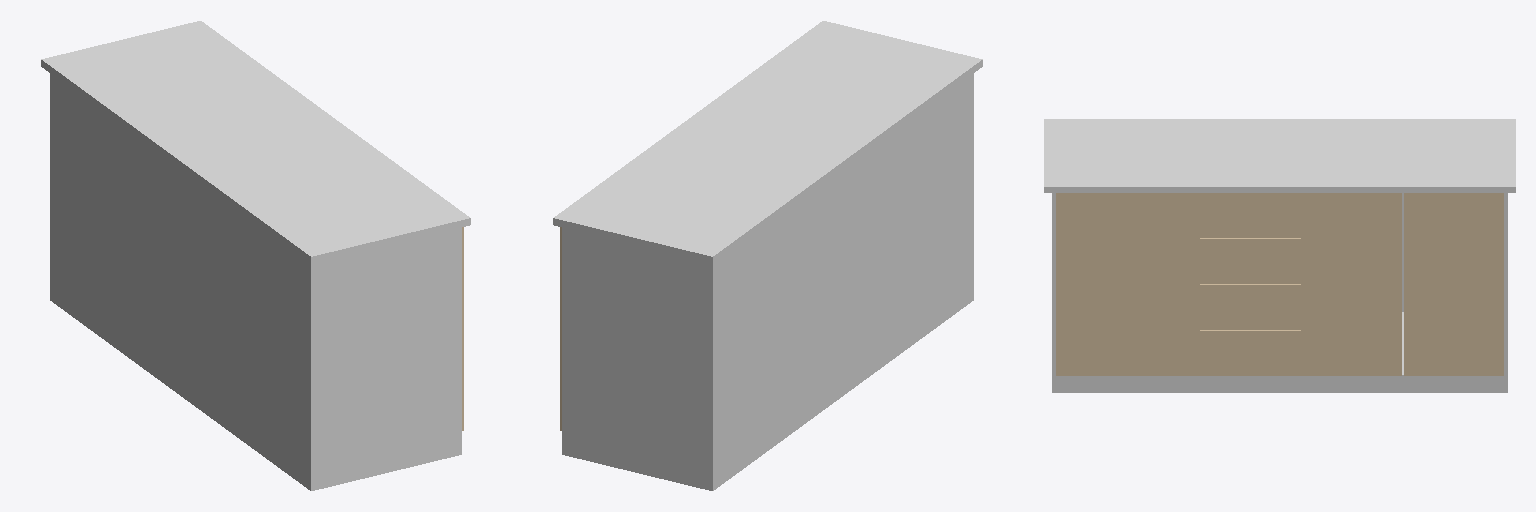
--- Render facts (derived) ---
Views: 3 orthographic renders of the robot side by side, from view 1: azimuth 30°, elevation 25°; view 2: azimuth 150°, elevation 25°; view 3: azimuth 270°, elevation 25°.
Model base_cabinet with 29 links and 28 joints (3 revolute, 5 prismatic, 20 fixed), rooted at base_cabinet_base_link, posed every joint at zero.
Links seen in each view (by area): view 1: base_cabinet_frame_back_panel, base_cabinet_worktop, base_cabinet_frame_right_side_panel, base_cabinet_base_link; view 2: base_cabinet_frame_back_panel, base_cabinet_worktop, base_cabinet_frame_left_side_panel, base_cabinet_base_link; view 3: base_cabinet_worktop, base_cabinet_c4_door, base_cabinet_c5_door, base_cabinet_c1_door, base_cabinet_c2_pull_out_front_panel, base_cabinet_base_link, base_cabinet_c3_r2_drawer_front_panel, base_cabinet_c3_r3_drawer_front_panel, base_cabinet_c3_r4_drawer_front_panel, base_cabinet_c3_r1_drawer_front_panel, base_cabinet_frame_left_side_panel, base_cabinet_frame_right_side_panel.
Boxes of the visible links, <box> form: base_cabinet_frame_back_panel: <box>50,74,314,469</box>; base_cabinet_worktop: <box>41,21,470,263</box>; base_cabinet_frame_right_side_panel: <box>309,228,461,469</box>; base_cabinet_base_link: <box>50,280,461,490</box>; base_cabinet_frame_back_panel: <box>709,74,973,469</box>; base_cabinet_worktop: <box>553,21,982,263</box>; base_cabinet_frame_left_side_panel: <box>562,228,714,469</box>; base_cabinet_base_link: <box>562,280,973,490</box>; base_cabinet_worktop: <box>1044,119,1515,192</box>; base_cabinet_c4_door: <box>1301,193,1401,375</box>; base_cabinet_c5_door: <box>1404,193,1503,375</box>; base_cabinet_c1_door: <box>1056,193,1155,375</box>; base_cabinet_c2_pull_out_front_panel: <box>1150,193,1199,375</box>; base_cabinet_base_link: <box>1052,312,1507,392</box>; base_cabinet_c3_r2_drawer_front_panel: <box>1200,238,1300,283</box>; base_cabinet_c3_r3_drawer_front_panel: <box>1200,284,1300,329</box>; base_cabinet_c3_r4_drawer_front_panel: <box>1200,330,1300,375</box>; base_cabinet_c3_r1_drawer_front_panel: <box>1200,193,1300,237</box>; base_cabinet_frame_left_side_panel: <box>1504,193,1507,374</box>; base_cabinet_frame_right_side_panel: <box>1052,193,1055,374</box>.
Size in the robot's own frame: 0.635 by 1.86 by 0.908 metres.
Geometry: primitives only (box / cylinder / sphere), no mesh files.

URDF robot description (base_cabinet):
<?xml version="1.0" ?>
<!-- =================================================================================== -->
<!-- |    This document was autogenerated by xacro from ../xacro/base_cabinet.urdf.xacro | -->
<!-- |    EDITING THIS FILE BY HAND IS NOT RECOMMENDED                                 | -->
<!-- =================================================================================== -->
<robot name="base_cabinet">
  <material name="White">
    <color rgba="0.9 0.9 0.9 1.0"/>
  </material>
  <material name="Glass">
    <color rgba="0.9 0.9 0.9 0.9"/>
  </material>
  <material name="Black">
    <color rgba="0.3 0.3 0.3 1.0"/>
  </material>
  <material name="Oak">
    <color rgba="0.89 0.81 0.69 1.0"/>
  </material>
  <!-- Using meter, kg -->
  <!-- https://www.ikea.com.hk/en/products/kitchen-fixed-interiors/kitchen-fixed-interiors/maximera-art-80297276-->
  <!-- Components -->
  <!--  <xacro:macro name="handle" params="prefix parent *origin">-->
  <!--    <link name="${prefix}_handle">-->
  <!--      <visual>-->
  <!--        <origin xyz="0 0 0" rpy="0 0 0"/>-->
  <!--        &lt;!&ndash;        <geometry>&ndash;&gt;-->
  <!--        &lt;!&ndash;          <box size="${worktop_ydim worktop_xdim worktop_zdim}"/>&ndash;&gt;-->
  <!--        &lt;!&ndash;        </geometry>&ndash;&gt;-->
  <!--        <material name="Black"/>-->
  <!--      </visual>-->
  <!--      <collision>-->
  <!--        <origin xyz="0 0 0" rpy="0 0 0"/>-->
  <!--        &lt;!&ndash;        <geometry>&ndash;&gt;-->
  <!--        &lt;!&ndash;          <box size="${worktop_ydim worktop_xdim worktop_zdim}"/>&ndash;&gt;-->
  <!--        &lt;!&ndash;        </geometry>&ndash;&gt;-->
  <!--      </collision>-->
  <!--      <inertial>-->
  <!--        <mass value="${handle_mass}"/>-->
  <!--        &lt;!&ndash;        <origin xyz="0 0 0"/>&ndash;&gt;-->
  <!--        &lt;!&ndash;        <xacro:box_inertia mass="${worktop_mass}" ydim="${worktop_ydim}" xdim="${worktop_xdim}"&ndash;&gt;-->
  <!--        &lt;!&ndash;                           zdim="${worktop_zdim}"/>&ndash;&gt;-->
  <!--      </inertial>-->
  <!--    </link>-->
  <!--    <joint name="{prefix}_handle_joint" type="fixed">-->
  <!--      <parent link="${parent}"/>-->
  <!--      <child link="{prefix}_handle_link"/>-->
  <!--      <xacro:insert_block name="origin"/>-->
  <!--    </joint>-->
  <!--  </xacro:macro>-->
  <link name="base_cabinet_base_link">
    <visual>
      <origin xyz="0 0 0"/>
      <geometry>
        <box size="0.6 1.8 0.08"/>
      </geometry>
      <material name="White"/>
    </visual>
    <collision>
      <origin xyz="0 0 0"/>
      <geometry>
        <box size="0.6 1.8 0.08"/>
      </geometry>
    </collision>
    <inertial>
      <origin xyz="0 0 0"/>
      <mass value="20"/>
      <inertia ixx="5.410666666666668" ixy="0" ixz="0" iyy="0.6106666666666667" iyz="0" izz="6.0"/>
    </inertial>
  </link>
  <link name="base_cabinet_frame_left_side_panel">
    <visual>
      <origin xyz="0 0 0"/>
      <geometry>
        <box size="0.6 0.016 0.8"/>
      </geometry>
      <material name="White"/>
    </visual>
    <collision>
      <origin xyz="0 0 0"/>
      <geometry>
        <box size="0.6 0.016 0.8"/>
      </geometry>
    </collision>
    <inertial>
      <origin xyz="0 0 0"/>
      <mass value="5"/>
      <inertia ixx="0.26677333333333336" ixy="0" ixz="0" iyy="0.4166666666666667" iyz="0" izz="0.15010666666666664"/>
    </inertial>
  </link>
  <joint name="base_cabinet_frame_left_side_panel_joint" type="fixed">
    <origin rpy="0 0 0" xyz="0 0.892 0.44"/>
    <parent link="base_cabinet_base_link"/>
    <child link="base_cabinet_frame_left_side_panel"/>
  </joint>
  <link name="base_cabinet_frame_right_side_panel">
    <visual>
      <origin xyz="0 0 0"/>
      <geometry>
        <box size="0.6 0.016 0.8"/>
      </geometry>
      <material name="White"/>
    </visual>
    <collision>
      <origin xyz="0 0 0"/>
      <geometry>
        <box size="0.6 0.016 0.8"/>
      </geometry>
    </collision>
    <inertial>
      <origin xyz="0 0 0"/>
      <mass value="5"/>
      <inertia ixx="0.26677333333333336" ixy="0" ixz="0" iyy="0.4166666666666667" iyz="0" izz="0.15010666666666664"/>
    </inertial>
  </link>
  <joint name="base_cabinet_frame_right_side_panel_joint" type="fixed">
    <origin rpy="0 0 0" xyz="0 -0.892 0.44"/>
    <parent link="base_cabinet_base_link"/>
    <child link="base_cabinet_frame_right_side_panel"/>
  </joint>
  <link name="base_cabinet_frame_back_panel">
    <visual>
      <origin xyz="0 0 0"/>
      <geometry>
        <box size="0.016 1.8 0.8"/>
      </geometry>
      <material name="White"/>
    </visual>
    <collision>
      <origin xyz="0 0 0"/>
      <geometry>
        <box size="0.016 1.8 0.8"/>
      </geometry>
    </collision>
    <inertial>
      <origin xyz="0 0 0"/>
      <mass value="20"/>
      <inertia ixx="6.466666666666668" ixy="0" ixz="0" iyy="1.0670933333333334" iyz="0" izz="5.400426666666667"/>
    </inertial>
  </link>
  <joint name="base_cabinet_back_panel_joint" type="fixed">
    <origin rpy="0 0 0" xyz="-0.292 0 0.44"/>
    <parent link="base_cabinet_base_link"/>
    <child link="base_cabinet_frame_back_panel"/>
  </joint>
  <link name="base_cabinet_worktop">
    <visual>
      <origin xyz="0 0 0"/>
      <geometry>
        <box size="0.635 1.86 0.028"/>
      </geometry>
      <material name="White"/>
    </visual>
    <collision>
      <origin xyz="0 0 0"/>
      <geometry>
        <box size="0.635 1.86 0.028"/>
      </geometry>
    </collision>
    <inertial>
      <origin xyz="0 0 0"/>
      <mass value="20.65"/>
      <inertia ixx="5.954744133333334" ixy="0" ixz="0" iyy="0.6952321541666667" iyz="0" izz="6.647278020833333"/>
    </inertial>
  </link>
  <joint name="base_cabinet_worktop_joint" type="fixed">
    <origin rpy="0 0 0" xyz="0 0 0.8540000000000001"/>
    <parent link="base_cabinet_base_link"/>
    <child link="base_cabinet_worktop"/>
  </joint>
  <link name="base_cabinet_c1_door">
    <visual>
      <origin xyz="0.008 0.198 0"/>
      <geometry>
        <box size="0.016 0.396 0.796"/>
      </geometry>
      <material name="Oak"/>
    </visual>
    <collision>
      <origin xyz="0.008 0.198 0"/>
      <geometry>
        <box size="0.016 0.396 0.796"/>
      </geometry>
    </collision>
    <inertial>
      <origin xyz="0.008 0.198 0"/>
      <mass value="3.31"/>
      <inertia ixx="0.21802749333333335" ixy="0" ixz="0" iyy="0.1748430266666667" iyz="0" izz="0.04332569333333334"/>
    </inertial>
  </link>
  <joint name="base_cabinet_c1_door_joint" type="revolute">
    <parent link="base_cabinet_base_link"/>
    <child link="base_cabinet_c1_door"/>
    <limit effort="10" lower="0" upper="1.5707963267948966" velocity="1"/>
    <dynamics damping="100" friction="0.1"/>
    <origin xyz="0.3 -0.884 0.44"/>
    <axis xyz="0 0 -1"/>
  </joint>
  <link name="base_cabinet_c2_pull_out_front_panel">
    <visual>
      <origin xyz="0 0 0"/>
      <geometry>
        <box size="0.016 0.197 0.797"/>
      </geometry>
      <material name="Oak"/>
    </visual>
    <collision>
      <origin xyz="0 0 0"/>
      <geometry>
        <box size="0.016 0.197 0.797"/>
      </geometry>
    </collision>
    <inertial>
      <origin xyz="0 0 0"/>
      <mass value="1.66"/>
      <inertia ixx="0.09323915666666666" ixy="0" ixz="0" iyy="0.08790599166666667" iyz="0" izz="0.005403991666666667"/>
    </inertial>
  </link>
  <joint name="base_cabinet_c2_pull_out_front_panel_joint" type="prismatic">
    <parent link="base_cabinet_base_link"/>
    <child link="base_cabinet_c2_pull_out_front_panel"/>
    <limit effort="10" lower="0" upper="0.542" velocity="1"/>
    <dynamics damping="100" friction="0.1"/>
    <origin xyz="0.308 -0.41600000000000004                        0.44"/>
    <axis xyz="1 0 0"/>
  </joint>
  <!--    <xacro:box_link prefix="${prefix}" link_name="${name}_bottom_panel" mass="${drawer_bottom_panel_mass}"-->
  <!--                    xdim="${drawer_bottom_panel_xdim}" ydim="${drawer_bottom_panel_ydim}"-->
  <!--                    zdim="${drawer_bottom_panel_zdim}"-->
  <!--                    material="White"/>-->
  <!--    <joint name="${prefix}_${name}_bottom_panel_joint" type="fixed">-->
  <!--      <parent link="${prefix}_${name}_front_panel"/>-->
  <!--      <child link="${prefix}_${name}_bottom_panel"/>-->
  <!--      <origin xyz="${(-drawer_front_panel_xdim-drawer_bottom_panel_xdim)/2}-->
  <!--                    0 ${(-drawer_front_panel_zdim+drawer_bottom_panel_zdim)/2}"-->
  <!--      />-->
  <!--    </joint>-->
  <!--    <xacro:box_link prefix="${prefix}" link_name="${name}_left_side_panel" mass="${drawer_side_panel_mass}"-->
  <!--                    xdim="${drawer_side_panel_xdim}" ydim="${drawer_side_panel_ydim}" zdim="${drawer_side_panel_zdim}"-->
  <!--                    material="White"/>-->
  <!--    <joint name="${prefix}_${name}_left_side_panel_joint" type="fixed">-->
  <!--      <parent link="${prefix}_${name}_front_panel"/>-->
  <!--      <child link="${prefix}_${name}_left_side_panel"/>-->
  <!--      <origin xyz="${(-drawer_front_panel_xdim-drawer_side_panel_xdim)/2}-->
  <!--                    ${(drawer_front_panel_ydim-drawer_side_panel_ydim)/2} 0"-->
  <!--      />-->
  <!--    </joint>-->
  <!--    <xacro:box_link prefix="${prefix}" link_name="${name}_right_side_panel" mass="${drawer_side_panel_mass}"-->
  <!--                    xdim="${drawer_side_panel_xdim}" ydim="${drawer_side_panel_ydim}" zdim="${drawer_side_panel_zdim}"-->
  <!--                    material="White"/>-->
  <!--    <joint name="${prefix}_${name}_right_side_panel_joint" type="fixed">-->
  <!--      <parent link="${prefix}_${name}_front_panel"/>-->
  <!--      <child link="${prefix}_${name}_right_side_panel"/>-->
  <!--      <origin xyz="${(-drawer_front_panel_xdim-drawer_side_panel_xdim)/2}-->
  <!--                    ${(-drawer_front_panel_ydim+drawer_side_panel_ydim)/2} 0"-->
  <!--      />-->
  <!--    </joint>-->
  <link name="base_cabinet_c3_r1_drawer_front_panel">
    <visual>
      <origin xyz="0 0 0"/>
      <geometry>
        <box size="0.016 0.396 0.196"/>
      </geometry>
      <material name="Oak"/>
    </visual>
    <collision>
      <origin xyz="0 0 0"/>
      <geometry>
        <box size="0.016 0.396 0.196"/>
      </geometry>
    </collision>
    <inertial>
      <origin xyz="0 0 0"/>
      <mass value="0.75"/>
      <inertia ixx="0.012202" ixy="0" ixz="0" iyy="0.0024170000000000003" iyz="0" izz="0.009817000000000001"/>
    </inertial>
  </link>
  <joint name="base_cabinet_c3_r1_drawer_front_panel_joint" type="prismatic">
    <parent link="base_cabinet_base_link"/>
    <child link="base_cabinet_c3_r1_drawer_front_panel"/>
    <limit effort="10" lower="0" upper="0.542" velocity="1"/>
    <dynamics damping="100" friction="0.1"/>
    <origin xyz="0.308 -0.11599999999999999                      0.74"/>
    <axis xyz="1 0 0"/>
  </joint>
  <link name="base_cabinet_c3_r1_drawer_bottom_panel">
    <visual>
      <origin xyz="0 0 0"/>
      <geometry>
        <box size="0.542 0.364 0.016"/>
      </geometry>
      <material name="White"/>
    </visual>
    <collision>
      <origin xyz="0 0 0"/>
      <geometry>
        <box size="0.542 0.364 0.016"/>
      </geometry>
    </collision>
    <inertial>
      <origin xyz="0 0 0"/>
      <mass value="3"/>
      <inertia ixx="0.033188" ixy="0" ixz="0" iyy="0.073505" iyz="0" izz="0.10656500000000001"/>
    </inertial>
  </link>
  <joint name="base_cabinet_c3_r1_drawer_bottom_panel_joint" type="fixed">
    <parent link="base_cabinet_c3_r1_drawer_front_panel"/>
    <child link="base_cabinet_c3_r1_drawer_bottom_panel"/>
    <origin xyz="-0.279                     0 -0.07999999999999999"/>
  </joint>
  <link name="base_cabinet_c3_r1_drawer_left_side_panel">
    <visual>
      <origin xyz="0 0 0"/>
      <geometry>
        <box size="0.542 0.016 0.144"/>
      </geometry>
      <material name="Glass"/>
    </visual>
    <collision>
      <origin xyz="0 0 0"/>
      <geometry>
        <box size="0.542 0.016 0.144"/>
      </geometry>
    </collision>
    <inertial>
      <origin xyz="0 0 0"/>
      <mass value="2"/>
      <inertia ixx="0.003498666666666666" ixy="0" ixz="0" iyy="0.05241666666666667" iyz="0" izz="0.049003333333333336"/>
    </inertial>
  </link>
  <joint name="base_cabinet_c3_r1_drawer_left_side_panel_joint" type="fixed">
    <parent link="base_cabinet_c3_r1_drawer_front_panel"/>
    <child link="base_cabinet_c3_r1_drawer_left_side_panel"/>
    <origin xyz="-0.279                     0.19 0"/>
  </joint>
  <link name="base_cabinet_c3_r1_drawer_right_side_panel">
    <visual>
      <origin xyz="0 0 0"/>
      <geometry>
        <box size="0.542 0.016 0.144"/>
      </geometry>
      <material name="Glass"/>
    </visual>
    <collision>
      <origin xyz="0 0 0"/>
      <geometry>
        <box size="0.542 0.016 0.144"/>
      </geometry>
    </collision>
    <inertial>
      <origin xyz="0 0 0"/>
      <mass value="2"/>
      <inertia ixx="0.003498666666666666" ixy="0" ixz="0" iyy="0.05241666666666667" iyz="0" izz="0.049003333333333336"/>
    </inertial>
  </link>
  <joint name="base_cabinet_c3_r1_drawer_right_side_panel_joint" type="fixed">
    <parent link="base_cabinet_c3_r1_drawer_front_panel"/>
    <child link="base_cabinet_c3_r1_drawer_right_side_panel"/>
    <origin xyz="-0.279                     -0.19 0"/>
  </joint>
  <link name="base_cabinet_c3_r1_drawer_back_panel">
    <visual>
      <origin xyz="0 0 0"/>
      <geometry>
        <box size="0.016 0.364 0.144"/>
      </geometry>
      <material name="White"/>
    </visual>
    <collision>
      <origin xyz="0 0 0"/>
      <geometry>
        <box size="0.016 0.364 0.144"/>
      </geometry>
    </collision>
    <inertial>
      <origin xyz="0 0 0"/>
      <mass value="2"/>
      <inertia ixx="0.025538666666666668" ixy="0" ixz="0" iyy="0.003498666666666666" iyz="0" izz="0.022125333333333334"/>
    </inertial>
  </link>
  <joint name="base_cabinet_c3_r1_drawer_back_panel_joint" type="fixed">
    <parent link="base_cabinet_c3_r1_drawer_front_panel"/>
    <child link="base_cabinet_c3_r1_drawer_back_panel"/>
    <origin xyz="-0.558                     0 0"/>
  </joint>
  <link name="base_cabinet_c3_r2_drawer_front_panel">
    <visual>
      <origin xyz="0 0 0"/>
      <geometry>
        <box size="0.016 0.396 0.196"/>
      </geometry>
      <material name="Oak"/>
    </visual>
    <collision>
      <origin xyz="0 0 0"/>
      <geometry>
        <box size="0.016 0.396 0.196"/>
      </geometry>
    </collision>
    <inertial>
      <origin xyz="0 0 0"/>
      <mass value="0.75"/>
      <inertia ixx="0.012202" ixy="0" ixz="0" iyy="0.0024170000000000003" iyz="0" izz="0.009817000000000001"/>
    </inertial>
  </link>
  <joint name="base_cabinet_c3_r2_drawer_front_panel_joint" type="prismatic">
    <parent link="base_cabinet_base_link"/>
    <child link="base_cabinet_c3_r2_drawer_front_panel"/>
    <limit effort="10" lower="0" upper="0.542" velocity="1"/>
    <dynamics damping="100" friction="0.1"/>
    <origin xyz="0.308 -0.11599999999999999                      0.54"/>
    <axis xyz="1 0 0"/>
  </joint>
  <link name="base_cabinet_c3_r2_drawer_bottom_panel">
    <visual>
      <origin xyz="0 0 0"/>
      <geometry>
        <box size="0.542 0.364 0.016"/>
      </geometry>
      <material name="White"/>
    </visual>
    <collision>
      <origin xyz="0 0 0"/>
      <geometry>
        <box size="0.542 0.364 0.016"/>
      </geometry>
    </collision>
    <inertial>
      <origin xyz="0 0 0"/>
      <mass value="3"/>
      <inertia ixx="0.033188" ixy="0" ixz="0" iyy="0.073505" iyz="0" izz="0.10656500000000001"/>
    </inertial>
  </link>
  <joint name="base_cabinet_c3_r2_drawer_bottom_panel_joint" type="fixed">
    <parent link="base_cabinet_c3_r2_drawer_front_panel"/>
    <child link="base_cabinet_c3_r2_drawer_bottom_panel"/>
    <origin xyz="-0.279                     0 -0.07999999999999999"/>
  </joint>
  <link name="base_cabinet_c3_r2_drawer_left_side_panel">
    <visual>
      <origin xyz="0 0 0"/>
      <geometry>
        <box size="0.542 0.016 0.144"/>
      </geometry>
      <material name="Glass"/>
    </visual>
    <collision>
      <origin xyz="0 0 0"/>
      <geometry>
        <box size="0.542 0.016 0.144"/>
      </geometry>
    </collision>
    <inertial>
      <origin xyz="0 0 0"/>
      <mass value="2"/>
      <inertia ixx="0.003498666666666666" ixy="0" ixz="0" iyy="0.05241666666666667" iyz="0" izz="0.049003333333333336"/>
    </inertial>
  </link>
  <joint name="base_cabinet_c3_r2_drawer_left_side_panel_joint" type="fixed">
    <parent link="base_cabinet_c3_r2_drawer_front_panel"/>
    <child link="base_cabinet_c3_r2_drawer_left_side_panel"/>
    <origin xyz="-0.279                     0.19 0"/>
  </joint>
  <link name="base_cabinet_c3_r2_drawer_right_side_panel">
    <visual>
      <origin xyz="0 0 0"/>
      <geometry>
        <box size="0.542 0.016 0.144"/>
      </geometry>
      <material name="Glass"/>
    </visual>
    <collision>
      <origin xyz="0 0 0"/>
      <geometry>
        <box size="0.542 0.016 0.144"/>
      </geometry>
    </collision>
    <inertial>
      <origin xyz="0 0 0"/>
      <mass value="2"/>
      <inertia ixx="0.003498666666666666" ixy="0" ixz="0" iyy="0.05241666666666667" iyz="0" izz="0.049003333333333336"/>
    </inertial>
  </link>
  <joint name="base_cabinet_c3_r2_drawer_right_side_panel_joint" type="fixed">
    <parent link="base_cabinet_c3_r2_drawer_front_panel"/>
    <child link="base_cabinet_c3_r2_drawer_right_side_panel"/>
    <origin xyz="-0.279                     -0.19 0"/>
  </joint>
  <link name="base_cabinet_c3_r2_drawer_back_panel">
    <visual>
      <origin xyz="0 0 0"/>
      <geometry>
        <box size="0.016 0.364 0.144"/>
      </geometry>
      <material name="White"/>
    </visual>
    <collision>
      <origin xyz="0 0 0"/>
      <geometry>
        <box size="0.016 0.364 0.144"/>
      </geometry>
    </collision>
    <inertial>
      <origin xyz="0 0 0"/>
      <mass value="2"/>
      <inertia ixx="0.025538666666666668" ixy="0" ixz="0" iyy="0.003498666666666666" iyz="0" izz="0.022125333333333334"/>
    </inertial>
  </link>
  <joint name="base_cabinet_c3_r2_drawer_back_panel_joint" type="fixed">
    <parent link="base_cabinet_c3_r2_drawer_front_panel"/>
    <child link="base_cabinet_c3_r2_drawer_back_panel"/>
    <origin xyz="-0.558                     0 0"/>
  </joint>
  <link name="base_cabinet_c3_r3_drawer_front_panel">
    <visual>
      <origin xyz="0 0 0"/>
      <geometry>
        <box size="0.016 0.396 0.196"/>
      </geometry>
      <material name="Oak"/>
    </visual>
    <collision>
      <origin xyz="0 0 0"/>
      <geometry>
        <box size="0.016 0.396 0.196"/>
      </geometry>
    </collision>
    <inertial>
      <origin xyz="0 0 0"/>
      <mass value="0.75"/>
      <inertia ixx="0.012202" ixy="0" ixz="0" iyy="0.0024170000000000003" iyz="0" izz="0.009817000000000001"/>
    </inertial>
  </link>
  <joint name="base_cabinet_c3_r3_drawer_front_panel_joint" type="prismatic">
    <parent link="base_cabinet_base_link"/>
    <child link="base_cabinet_c3_r3_drawer_front_panel"/>
    <limit effort="10" lower="0" upper="0.542" velocity="1"/>
    <dynamics damping="100" friction="0.1"/>
    <origin xyz="0.308 -0.11599999999999999                      0.34"/>
    <axis xyz="1 0 0"/>
  </joint>
  <link name="base_cabinet_c3_r3_drawer_bottom_panel">
    <visual>
      <origin xyz="0 0 0"/>
      <geometry>
        <box size="0.542 0.364 0.016"/>
      </geometry>
      <material name="White"/>
    </visual>
    <collision>
      <origin xyz="0 0 0"/>
      <geometry>
        <box size="0.542 0.364 0.016"/>
      </geometry>
    </collision>
    <inertial>
      <origin xyz="0 0 0"/>
      <mass value="3"/>
      <inertia ixx="0.033188" ixy="0" ixz="0" iyy="0.073505" iyz="0" izz="0.10656500000000001"/>
    </inertial>
  </link>
  <joint name="base_cabinet_c3_r3_drawer_bottom_panel_joint" type="fixed">
    <parent link="base_cabinet_c3_r3_drawer_front_panel"/>
    <child link="base_cabinet_c3_r3_drawer_bottom_panel"/>
    <origin xyz="-0.279                     0 -0.07999999999999999"/>
  </joint>
  <link name="base_cabinet_c3_r3_drawer_left_side_panel">
    <visual>
      <origin xyz="0 0 0"/>
      <geometry>
        <box size="0.542 0.016 0.144"/>
      </geometry>
      <material name="Glass"/>
    </visual>
    <collision>
      <origin xyz="0 0 0"/>
      <geometry>
        <box size="0.542 0.016 0.144"/>
      </geometry>
    </collision>
    <inertial>
      <origin xyz="0 0 0"/>
      <mass value="2"/>
      <inertia ixx="0.003498666666666666" ixy="0" ixz="0" iyy="0.05241666666666667" iyz="0" izz="0.049003333333333336"/>
    </inertial>
  </link>
  <joint name="base_cabinet_c3_r3_drawer_left_side_panel_joint" type="fixed">
    <parent link="base_cabinet_c3_r3_drawer_front_panel"/>
    <child link="base_cabinet_c3_r3_drawer_left_side_panel"/>
    <origin xyz="-0.279                     0.19 0"/>
  </joint>
  <link name="base_cabinet_c3_r3_drawer_right_side_panel">
    <visual>
      <origin xyz="0 0 0"/>
      <geometry>
        <box size="0.542 0.016 0.144"/>
      </geometry>
      <material name="Glass"/>
    </visual>
    <collision>
      <origin xyz="0 0 0"/>
      <geometry>
        <box size="0.542 0.016 0.144"/>
      </geometry>
    </collision>
    <inertial>
      <origin xyz="0 0 0"/>
      <mass value="2"/>
      <inertia ixx="0.003498666666666666" ixy="0" ixz="0" iyy="0.05241666666666667" iyz="0" izz="0.049003333333333336"/>
    </inertial>
  </link>
  <joint name="base_cabinet_c3_r3_drawer_right_side_panel_joint" type="fixed">
    <parent link="base_cabinet_c3_r3_drawer_front_panel"/>
    <child link="base_cabinet_c3_r3_drawer_right_side_panel"/>
    <origin xyz="-0.279                     -0.19 0"/>
  </joint>
  <link name="base_cabinet_c3_r3_drawer_back_panel">
    <visual>
      <origin xyz="0 0 0"/>
      <geometry>
        <box size="0.016 0.364 0.144"/>
      </geometry>
      <material name="White"/>
    </visual>
    <collision>
      <origin xyz="0 0 0"/>
      <geometry>
        <box size="0.016 0.364 0.144"/>
      </geometry>
    </collision>
    <inertial>
      <origin xyz="0 0 0"/>
      <mass value="2"/>
      <inertia ixx="0.025538666666666668" ixy="0" ixz="0" iyy="0.003498666666666666" iyz="0" izz="0.022125333333333334"/>
    </inertial>
  </link>
  <joint name="base_cabinet_c3_r3_drawer_back_panel_joint" type="fixed">
    <parent link="base_cabinet_c3_r3_drawer_front_panel"/>
    <child link="base_cabinet_c3_r3_drawer_back_panel"/>
    <origin xyz="-0.558                     0 0"/>
  </joint>
  <link name="base_cabinet_c3_r4_drawer_front_panel">
    <visual>
      <origin xyz="0 0 0"/>
      <geometry>
        <box size="0.016 0.396 0.196"/>
      </geometry>
      <material name="Oak"/>
    </visual>
    <collision>
      <origin xyz="0 0 0"/>
      <geometry>
        <box size="0.016 0.396 0.196"/>
      </geometry>
    </collision>
    <inertial>
      <origin xyz="0 0 0"/>
      <mass value="0.75"/>
      <inertia ixx="0.012202" ixy="0" ixz="0" iyy="0.0024170000000000003" iyz="0" izz="0.009817000000000001"/>
    </inertial>
  </link>
  <joint name="base_cabinet_c3_r4_drawer_front_panel_joint" type="prismatic">
    <parent link="base_cabinet_base_link"/>
    <child link="base_cabinet_c3_r4_drawer_front_panel"/>
    <limit effort="10" lower="0" upper="0.542" velocity="1"/>
    <dynamics damping="100" friction="0.1"/>
    <origin xyz="0.308 -0.11599999999999999                      0.14"/>
    <axis xyz="1 0 0"/>
  </joint>
  <link name="base_cabinet_c3_r4_drawer_bottom_panel">
    <visual>
      <origin xyz="0 0 0"/>
      <geometry>
        <box size="0.542 0.364 0.016"/>
      </geometry>
      <material name="White"/>
    </visual>
    <collision>
      <origin xyz="0 0 0"/>
      <geometry>
        <box size="0.542 0.364 0.016"/>
      </geometry>
    </collision>
    <inertial>
      <origin xyz="0 0 0"/>
      <mass value="3"/>
      <inertia ixx="0.033188" ixy="0" ixz="0" iyy="0.073505" iyz="0" izz="0.10656500000000001"/>
    </inertial>
  </link>
  <joint name="base_cabinet_c3_r4_drawer_bottom_panel_joint" type="fixed">
    <parent link="base_cabinet_c3_r4_drawer_front_panel"/>
    <child link="base_cabinet_c3_r4_drawer_bottom_panel"/>
    <origin xyz="-0.279                     0 -0.07999999999999999"/>
  </joint>
  <link name="base_cabinet_c3_r4_drawer_left_side_panel">
    <visual>
      <origin xyz="0 0 0"/>
      <geometry>
        <box size="0.542 0.016 0.144"/>
      </geometry>
      <material name="Glass"/>
    </visual>
    <collision>
      <origin xyz="0 0 0"/>
      <geometry>
        <box size="0.542 0.016 0.144"/>
      </geometry>
    </collision>
    <inertial>
      <origin xyz="0 0 0"/>
      <mass value="2"/>
      <inertia ixx="0.003498666666666666" ixy="0" ixz="0" iyy="0.05241666666666667" iyz="0" izz="0.049003333333333336"/>
    </inertial>
  </link>
  <joint name="base_cabinet_c3_r4_drawer_left_side_panel_joint" type="fixed">
    <parent link="base_cabinet_c3_r4_drawer_front_panel"/>
    <child link="base_cabinet_c3_r4_drawer_left_side_panel"/>
    <origin xyz="-0.279                     0.19 0"/>
  </joint>
  <link name="base_cabinet_c3_r4_drawer_right_side_panel">
    <visual>
      <origin xyz="0 0 0"/>
      <geometry>
        <box size="0.542 0.016 0.144"/>
      </geometry>
      <material name="Glass"/>
    </visual>
    <collision>
      <origin xyz="0 0 0"/>
      <geometry>
        <box size="0.542 0.016 0.144"/>
      </geometry>
    </collision>
    <inertial>
      <origin xyz="0 0 0"/>
      <mass value="2"/>
      <inertia ixx="0.003498666666666666" ixy="0" ixz="0" iyy="0.05241666666666667" iyz="0" izz="0.049003333333333336"/>
    </inertial>
  </link>
  <joint name="base_cabinet_c3_r4_drawer_right_side_panel_joint" type="fixed">
    <parent link="base_cabinet_c3_r4_drawer_front_panel"/>
    <child link="base_cabinet_c3_r4_drawer_right_side_panel"/>
    <origin xyz="-0.279                     -0.19 0"/>
  </joint>
  <link name="base_cabinet_c3_r4_drawer_back_panel">
    <visual>
      <origin xyz="0 0 0"/>
      <geometry>
        <box size="0.016 0.364 0.144"/>
      </geometry>
      <material name="White"/>
    </visual>
    <collision>
      <origin xyz="0 0 0"/>
      <geometry>
        <box size="0.016 0.364 0.144"/>
      </geometry>
    </collision>
    <inertial>
      <origin xyz="0 0 0"/>
      <mass value="2"/>
      <inertia ixx="0.025538666666666668" ixy="0" ixz="0" iyy="0.003498666666666666" iyz="0" izz="0.022125333333333334"/>
    </inertial>
  </link>
  <joint name="base_cabinet_c3_r4_drawer_back_panel_joint" type="fixed">
    <parent link="base_cabinet_c3_r4_drawer_front_panel"/>
    <child link="base_cabinet_c3_r4_drawer_back_panel"/>
    <origin xyz="-0.558                     0 0"/>
  </joint>
  <link name="base_cabinet_c4_door">
    <visual>
      <origin xyz="0.008 0.198 0"/>
      <geometry>
        <box size="0.016 0.396 0.796"/>
      </geometry>
      <material name="Oak"/>
    </visual>
    <collision>
      <origin xyz="0.008 0.198 0"/>
      <geometry>
        <box size="0.016 0.396 0.796"/>
      </geometry>
    </collision>
    <inertial>
      <origin xyz="0.008 0.198 0"/>
      <mass value="3.31"/>
      <inertia ixx="0.21802749333333335" ixy="0" ixz="0" iyy="0.1748430266666667" iyz="0" izz="0.04332569333333334"/>
    </inertial>
  </link>
  <joint name="base_cabinet_c4_door_joint" type="revolute">
    <parent link="base_cabinet_base_link"/>
    <child link="base_cabinet_c4_door"/>
    <limit effort="10" lower="0" upper="1.5707963267948966" velocity="1"/>
    <dynamics damping="100" friction="0.1"/>
    <origin xyz="0.3 0.08399999999999996 0.44"/>
    <axis xyz="0 0 -1"/>
  </joint>
  <link name="base_cabinet_c5_door">
    <visual>
      <origin xyz="0.008 -0.198 0"/>
      <geometry>
        <box size="0.016 0.396 0.796"/>
      </geometry>
      <material name="Oak"/>
    </visual>
    <collision>
      <origin xyz="0.008 -0.198 0"/>
      <geometry>
        <box size="0.016 0.396 0.796"/>
      </geometry>
    </collision>
    <inertial>
      <origin xyz="0.008 -0.198 0"/>
      <mass value="3.31"/>
      <inertia ixx="0.21802749333333335" ixy="0" ixz="0" iyy="0.1748430266666667" iyz="0" izz="0.04332569333333334"/>
    </inertial>
  </link>
  <joint name="base_cabinet_c5_door_joint" type="revolute">
    <parent link="base_cabinet_base_link"/>
    <child link="base_cabinet_c5_door"/>
    <limit effort="10" lower="0" upper="1.5707963267948966" velocity="1"/>
    <dynamics damping="100" friction="0.1"/>
    <origin xyz="0.3 0.884 0.44"/>
    <axis xyz="0 0 1"/>
  </joint>
</robot>
